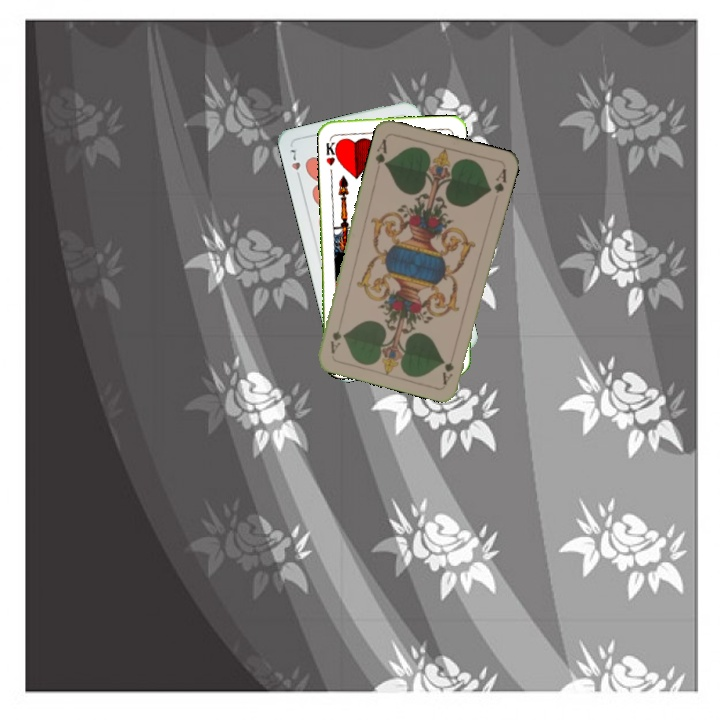GA: (439, 347, 458, 387), (371, 135, 390, 169)
H7: (286, 145, 304, 183)
HK: (322, 133, 341, 168)
